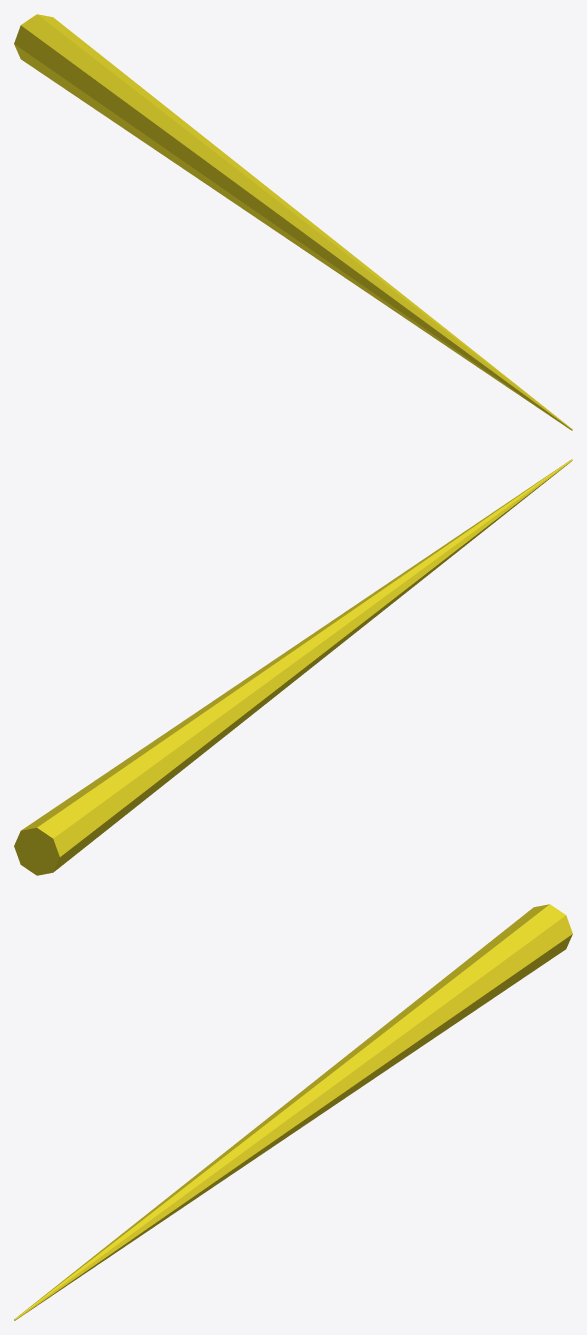
The model's file is Lighthouse Light.fbx.
The picture shows the model from 3 angles, top to bottom: view 1: azimuth 30°, elevation 25°; view 2: azimuth 150°, elevation 25°; view 3: azimuth 330°, elevation 25°; orthographic projection.
Parts seen in each view (by area): view 1: Cylinder.007; view 2: Cylinder.007; view 3: Cylinder.007.
Part boxes in pixels (x1,y1,x2,y2): Cylinder.007: (14,14,572,430); Cylinder.007: (14,459,572,875); Cylinder.007: (14,904,572,1320).
Bounding box in the file's own units: 22.01 × 22.01 × 444.
